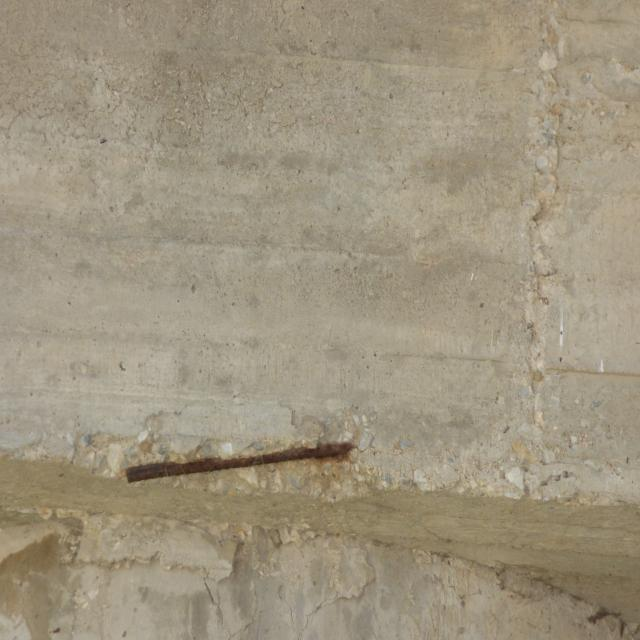corrosion: (118, 426, 358, 489)
